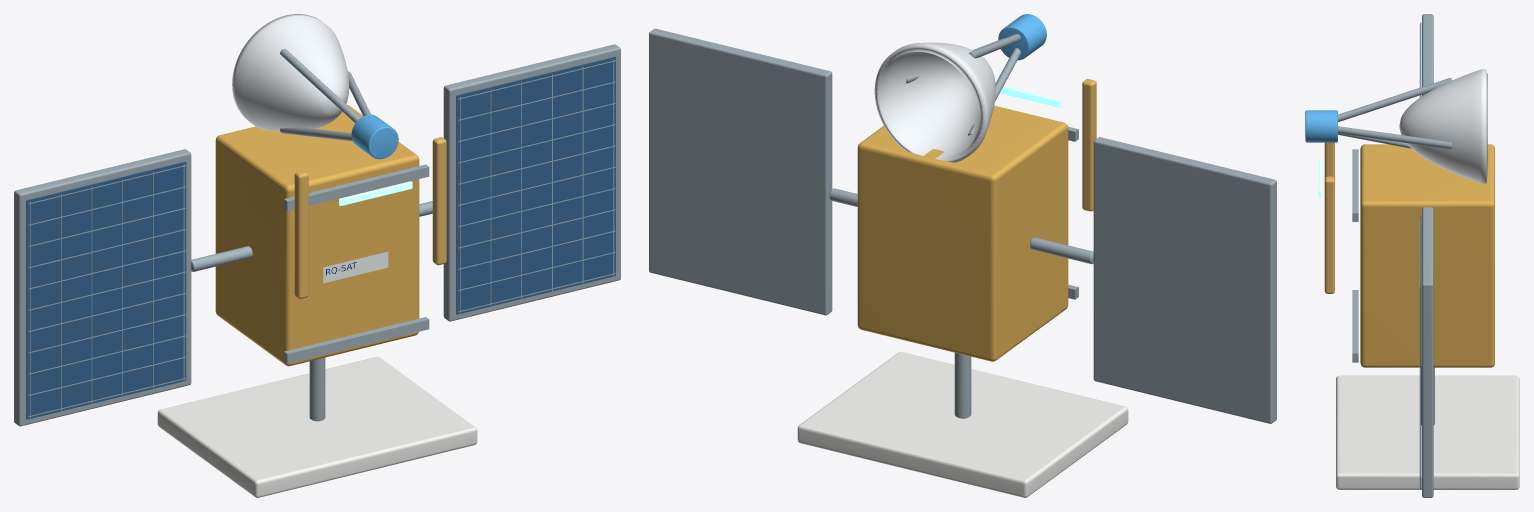
The model's file is training_satellite.glb.
The picture shows the model from 3 angles, left to right: view 1: azimuth 30°, elevation 25°; view 2: azimuth 150°, elevation 25°; view 3: azimuth 270°, elevation 25°; orthographic projection. The views are drawn at different scales.
Visible parts, largest first — view 1: Satellite_Bus, Satellite_Wing-1_Cells, Satellite_Wing1_Cells, Satellite_Stand, Satellite_Dish, Satellite_Wing-1_Frame, Satellite_Wing1_Frame, Satellite_Rib0.31, Satellite_Service_Bumper_2, Satellite_Service_Bumper, Satellite_Rib0.69, Satellite_Dish_Receiver (+4 smaller); view 2: Satellite_Wing-1_Frame, Satellite_Wing1_Frame, Satellite_Bus, Satellite_Stand, Satellite_Dish, Satellite_Service_Bumper, Satellite_Dish_Receiver, Satellite_Stand_Post, Satellite_Boom-1; view 3: Satellite_Bus, Satellite_Stand, Satellite_Dish, Satellite_Wing1_Frame, Satellite_Service_Bumper_2, Satellite_Dish_Receiver, Satellite_Dish_Feed_Strut0, Satellite_Dish_Feed_Strut2.0943951023931953, Satellite_Wing-1_Frame, Satellite_Wing1_Cells, Satellite_Rib0.31, Satellite_Rib0.69 (+2 smaller).
Part boxes in pixels (x1,y1,x2,y2): Satellite_Bus: (215,104,419,366); Satellite_Wing-1_Cells: (26,161,186,419); Satellite_Wing1_Cells: (456,56,615,314); Satellite_Stand: (157,356,477,497); Satellite_Dish: (232,14,349,131); Satellite_Wing-1_Frame: (14,149,191,426); Satellite_Wing1_Frame: (443,44,620,321); Satellite_Rib0.31: (284,317,429,363); Satellite_Service_Bumper_2: (432,137,446,265); Satellite_Service_Bumper: (294,171,308,298); Satellite_Rib0.69: (284,164,429,211); Satellite_Dish_Receiver: (351,114,398,159); Satellite_Wing-1_Frame: (1093,137,1276,423); Satellite_Wing1_Frame: (649,28,832,315); Satellite_Bus: (857,105,1068,361); Satellite_Stand: (797,351,1128,497); Satellite_Dish: (874,42,995,162); Satellite_Service_Bumper: (1082,79,1096,211); Satellite_Dish_Receiver: (998,14,1046,60); Satellite_Stand_Post: (954,352,971,418); Satellite_Boom-1: (1030,237,1093,264); Satellite_Bus: (1360,144,1494,367); Satellite_Stand: (1336,375,1519,489); Satellite_Dish: (1399,69,1487,183); Satellite_Wing1_Frame: (1422,207,1433,497); Satellite_Service_Bumper_2: (1324,176,1334,293); Satellite_Dish_Receiver: (1305,110,1337,142); Satellite_Dish_Feed_Strut0: (1338,126,1452,149); Satellite_Dish_Feed_Strut2.0943951023931953: (1338,77,1451,121); Satellite_Wing-1_Frame: (1422,14,1433,95); Satellite_Wing1_Cells: (1420,216,1421,489); Satellite_Rib0.31: (1352,290,1358,362); Satellite_Rib0.69: (1352,149,1358,221).
Size of the model in its own units: 1.57 by 0.99 by 0.525.
Materials: 9 (1 with a texture image).
